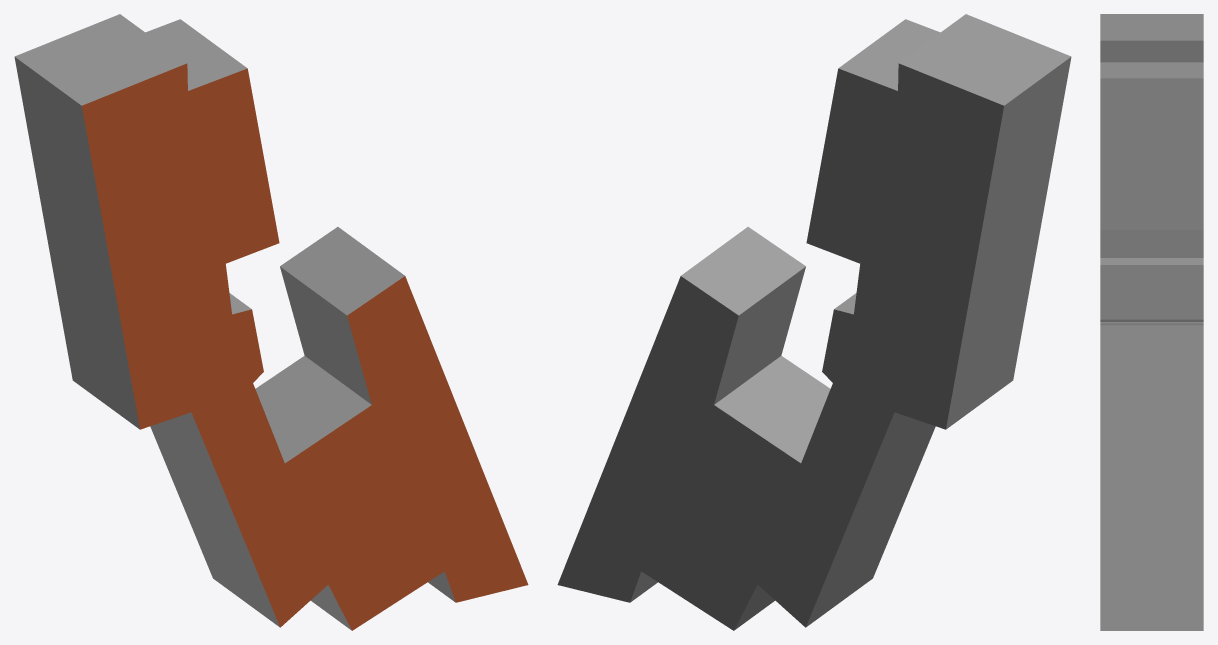
The model's file is construction_6596_assumed_A_Casa_h6m.obj.
3 renders of one model, left to right at view 1: azimuth 30°, elevation 25°; view 2: azimuth 150°, elevation 25°; view 3: azimuth 270°, elevation 25°, orthographic. The views are drawn at different scales.
Parts seen in each view (by area): view 1: construction_6596_assumed_A_Casa; view 2: construction_6596_assumed_A_Casa; view 3: construction_6596_assumed_A_Casa.
Part boxes in pixels (x1,y1,x2,y2): construction_6596_assumed_A_Casa: (14, 14, 528, 630); construction_6596_assumed_A_Casa: (557, 14, 1071, 630); construction_6596_assumed_A_Casa: (1100, 14, 1203, 630).
Bounding box in the file's own units: 22.99 × 29.89 × 6.
